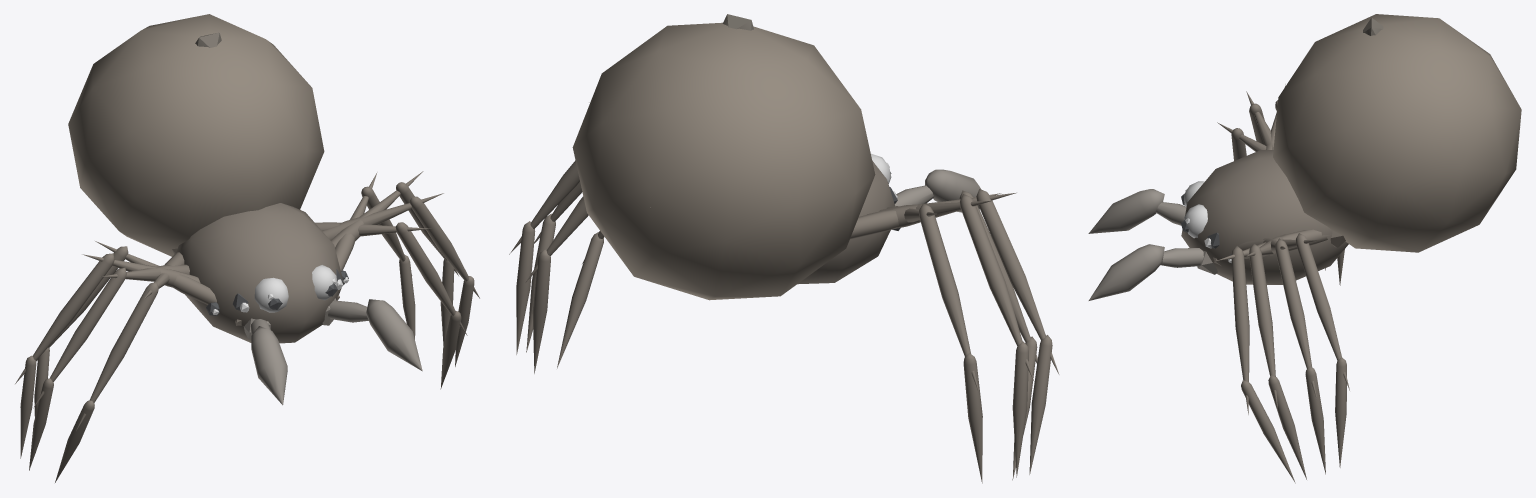
Rendered from cyrtophora-cicatrosa.glb.
3 views of the same model, side by side, from view 1: azimuth 30°, elevation 25°; view 2: azimuth 150°, elevation 25°; view 3: azimuth 270°, elevation 25° (orthographic). The views are drawn at different scales.
Visible parts, largest first — view 1: abdomen, cephalothorax, leg1-r0, leg2-r0, leg3-r0, leg2-l0, leg3-l0, leg0-l0, leg0-r0, palp-l1, palp-r1, leg1-l0 (+3 smaller); view 2: abdomen, leg1-r0, leg2-r0, leg0-r0, cephalothorax, leg1-l0, leg3-r0, leg0-l0, leg3-l0, palp-r1, leg2-l0, palp-r0; view 3: abdomen, cephalothorax, leg3-l0, leg0-l0, leg2-l0, leg1-l0, palp-l1, palp-r1, palp-l0, leg2-r0, eye0-l, leg3-r0 (+1 smaller).
Boxes of the visible parts, x1,y1,x2,y2 form: abdomen: (68,14,324,256); cephalothorax: (172,203,343,343); leg1-r0: (15,253,200,458); leg2-r0: (29,264,189,470); leg3-r0: (55,252,184,482); leg2-l0: (322,193,479,366); leg3-l0: (315,222,467,389); leg0-l0: (335,172,415,339); leg0-r0: (34,241,216,452); palp-l1: (366,299,422,371); palp-r1: (251,326,287,405); leg1-l0: (330,171,458,345); abdomen: (572,14,875,300); leg1-r0: (879,194,1034,477); leg2-r0: (866,189,1059,474); leg0-r0: (886,203,982,483); cephalothorax: (797,161,894,284); leg1-l0: (509,102,589,354); leg3-r0: (850,190,1037,480); leg0-l0: (525,196,588,373); leg3-l0: (557,231,604,368); palp-r1: (925,169,980,212); leg2-l0: (526,182,582,352); palp-r0: (895,185,934,206); abdomen: (1273,14,1521,252); cephalothorax: (1181,150,1348,284); leg3-l0: (1218,229,1331,483); leg0-l0: (1238,233,1349,467); leg2-l0: (1247,234,1306,479); leg1-l0: (1263,238,1325,474); palp-l1: (1088,244,1164,300); palp-r1: (1088,189,1164,233); palp-l0: (1160,248,1203,267); leg2-r0: (1246,91,1273,149); eye0-l: (1181,204,1207,238); leg3-r0: (1217,122,1266,160).
Size of the model in its own units: 0.5432 by 0.4332 by 0.4617.
